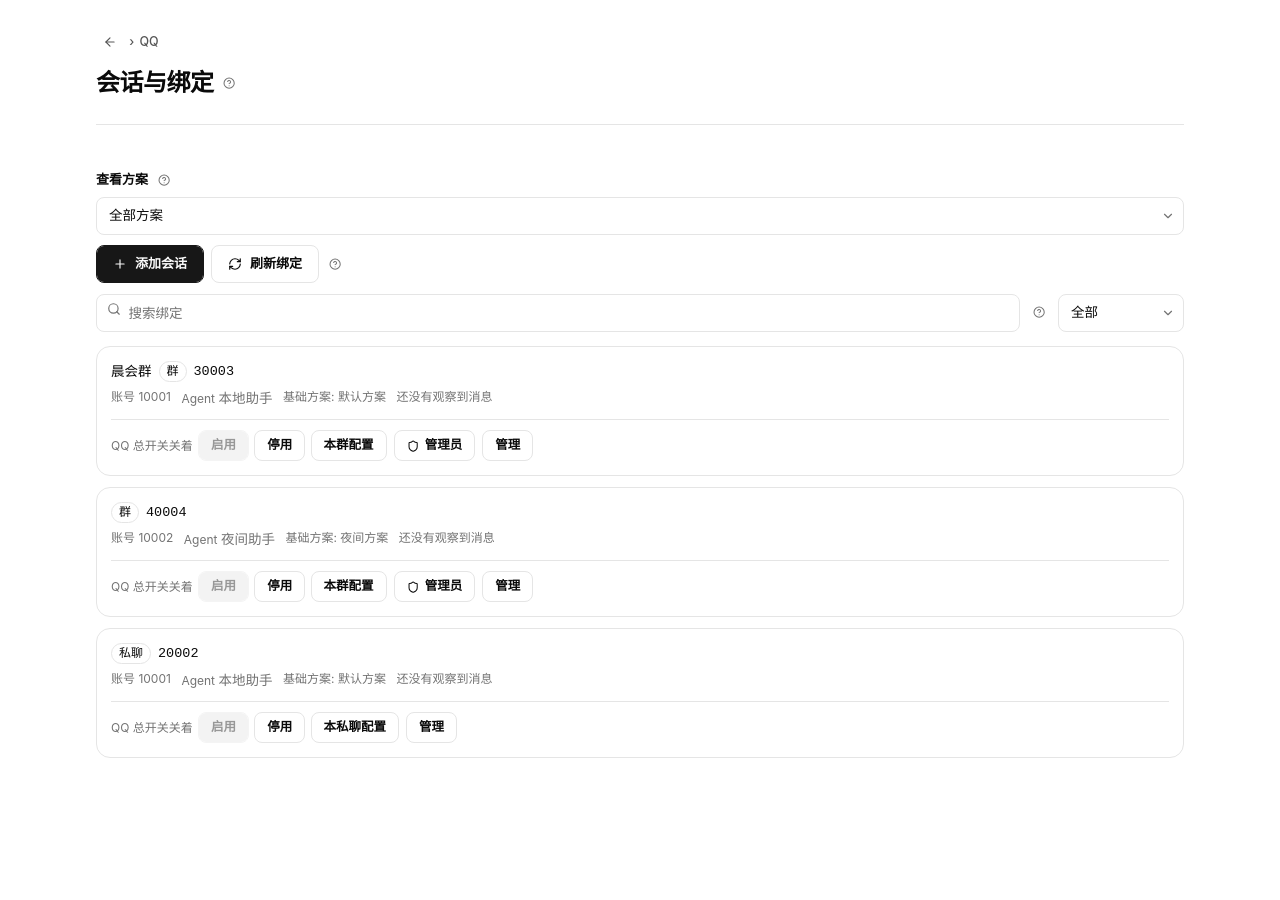
it: 全局看板跨方案群与私聊同列：行显显示名/账号/基础方案/Agent；类型筛选收窄
expect the list item "30003" shows "晨会群": met, box [111,363,152,379]
expect the list item "30003" shows "默认方案": met, box [338,389,386,404]
// 会话类型筛选是真实的收窄，不是装饰。
Select "群" in the dropdown named "会话类型" at point(1121, 312), box [1058,294,1184,332]
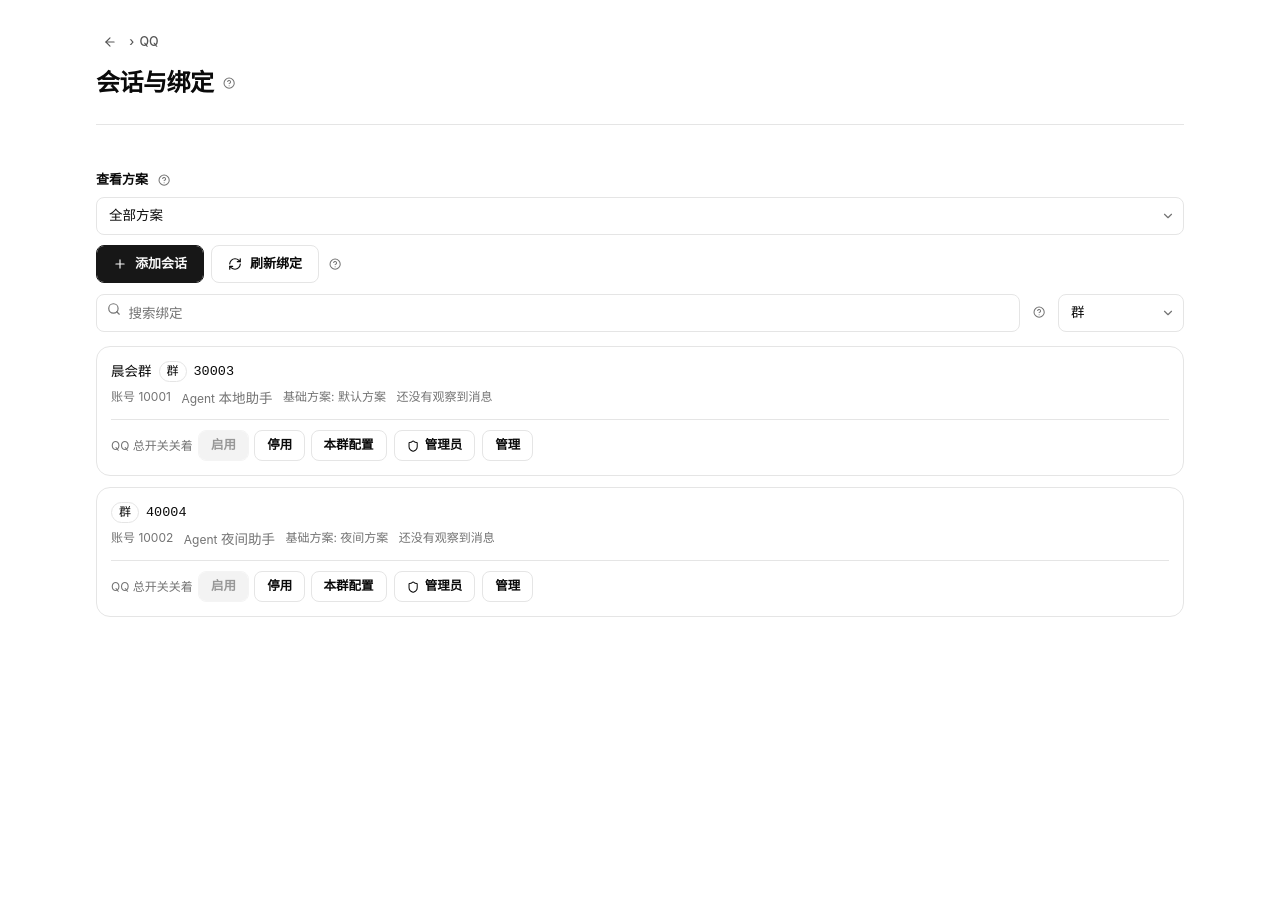
expect the list item "30003" is shown: met, box [194,364,234,379]
expect the text "20002" is gone: met
Select "私聊" in the dropdown named "会话类型" at point(1121, 312), box [1058,294,1184,332]
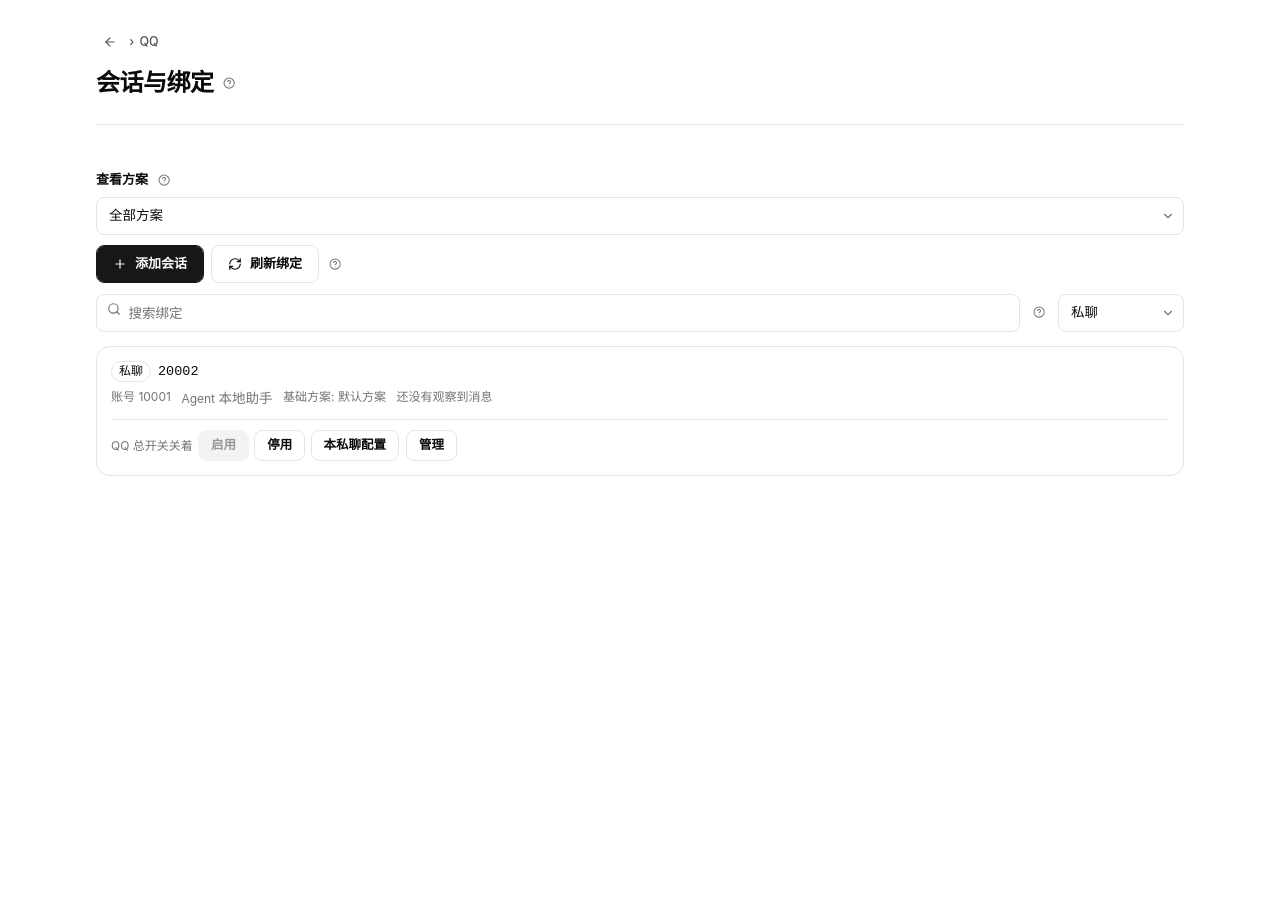
expect the text "30003" is gone: met
expect the list item "20002" is shown: met, box [158,364,198,379]
